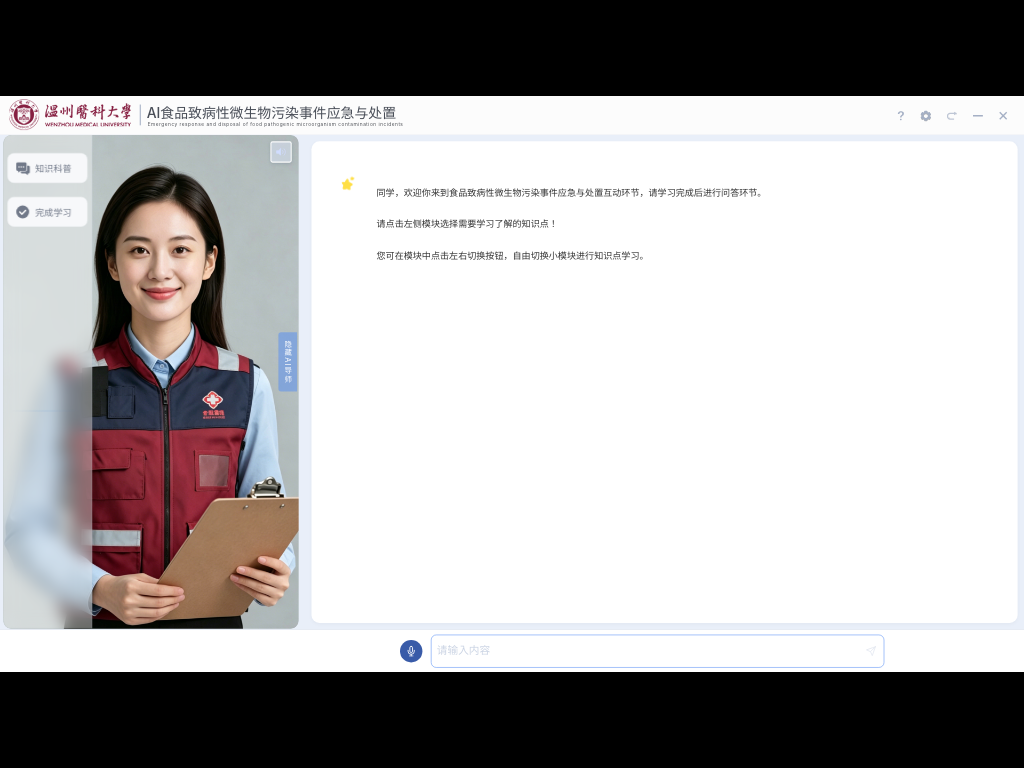
Test: KnowledgePage › 点击「知识科普」后显示6个模块Tab与正文，基础知识高亮，欢迎文案消失
Click the button "知识科普" at (48, 168), box [8, 153, 88, 183]
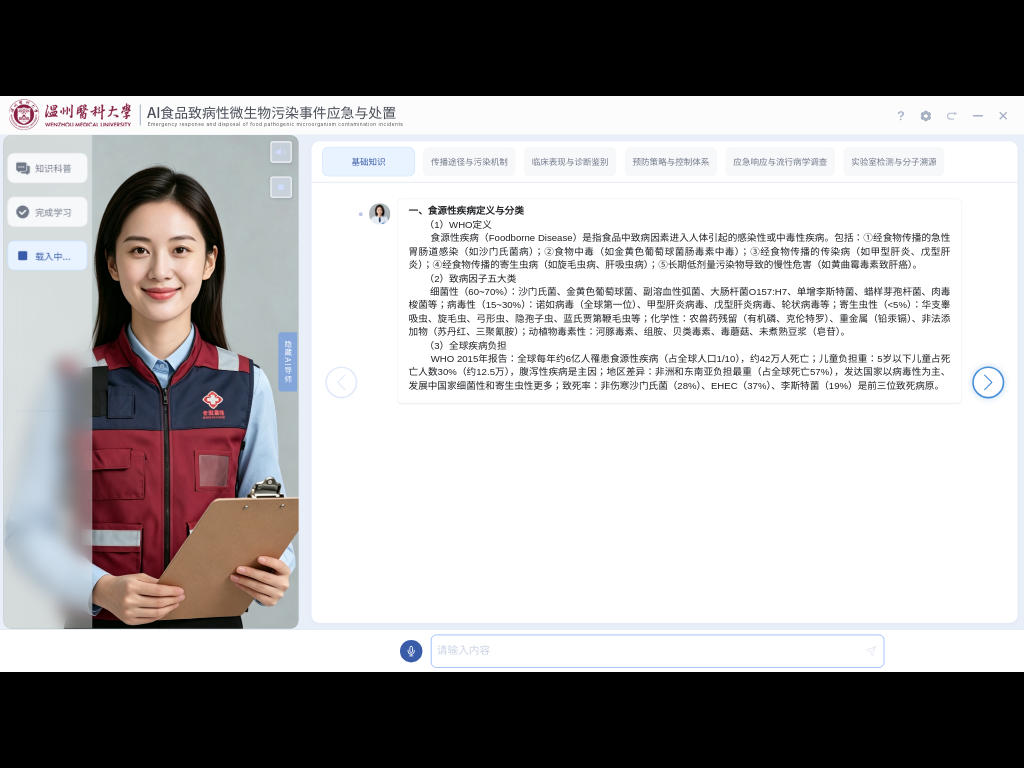
Result: the button "基础知识" is shown at [322, 147, 415, 176]
Result: the button "传播途径与污染机制" is shown at [423, 147, 516, 176]
Result: the button "临床表现与诊断鉴别" is shown at [524, 147, 616, 176]
